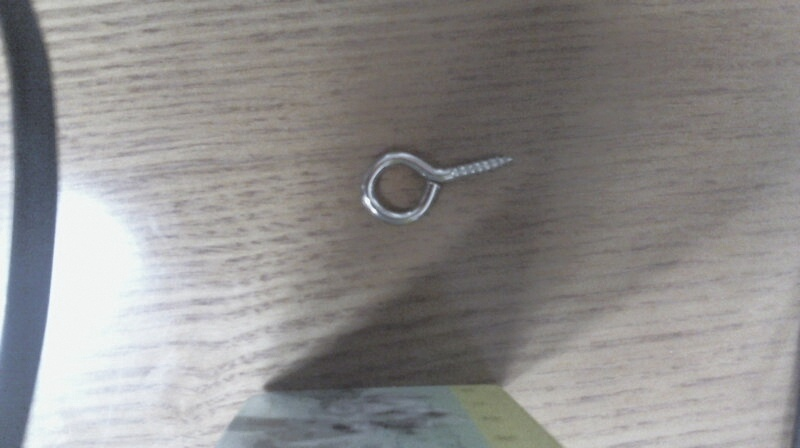O001: (355, 146, 515, 225)
